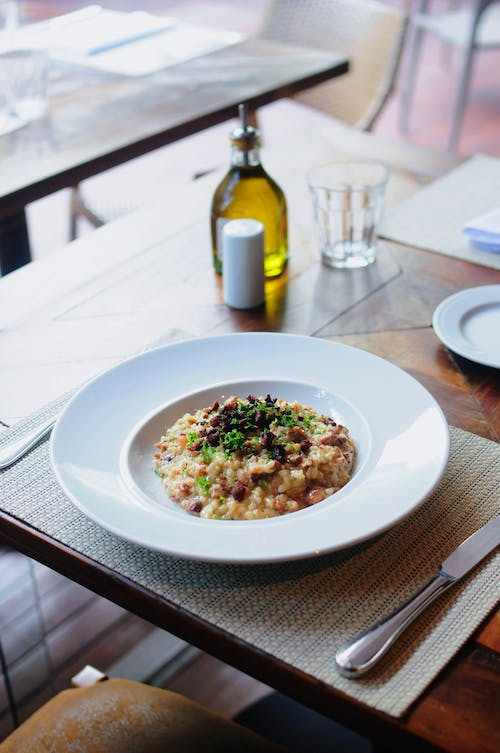knife: (330, 511, 500, 683)
